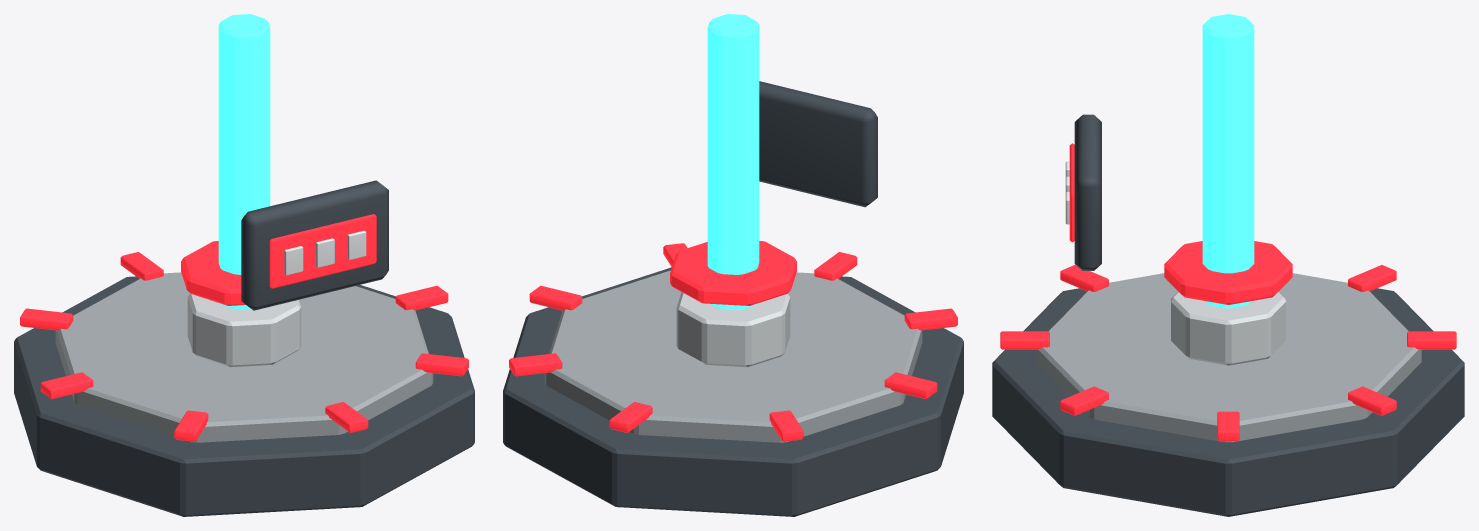
Rendered from Objective_Station_Red.fbx.
3 views of the same model, side by side, from view 1: azimuth 30°, elevation 25°; view 2: azimuth 150°, elevation 25°; view 3: azimuth 270°, elevation 25° (orthographic).
Parts seen in each view (by area): view 1: Octagonal base.001, Raised deck.001, Energy column.001, Progress panel.001, Column socket.001, Progress screen.001, Team collar.001, Team rim marker.015, Team rim marker.011, Team rim marker.012, Team rim marker.008, Team rim marker.014 (+5 smaller); view 2: Octagonal base.001, Raised deck.001, Energy column.001, Progress panel.001, Column socket.001, Team collar.001, Team rim marker.009, Team rim marker.013, Team rim marker.012, Team rim marker.008, Team rim marker.010, Team rim marker.014 (+1 smaller); view 3: Octagonal base.001, Raised deck.001, Energy column.001, Column socket.001, Team collar.001, Progress panel.001, Team rim marker.010, Team rim marker.014, Team rim marker.009, Team rim marker.015, Team rim marker.011, Team rim marker.013 (+2 smaller).
Part boxes in pixels (bbox=[...]): Octagonal base.001: bbox=[14, 276, 474, 516]; Raised deck.001: bbox=[55, 272, 433, 442]; Energy column.001: bbox=[218, 14, 270, 309]; Progress panel.001: bbox=[241, 180, 388, 310]; Column socket.001: bbox=[187, 293, 301, 367]; Progress screen.001: bbox=[269, 214, 376, 288]; Team collar.001: bbox=[181, 241, 245, 305]; Team rim marker.015: bbox=[415, 353, 468, 376]; Team rim marker.011: bbox=[20, 308, 73, 330]; Team rim marker.012: bbox=[40, 372, 93, 399]; Team rim marker.008: bbox=[395, 285, 448, 310]; Team rim marker.014: bbox=[325, 402, 368, 432]; Octagonal base.001: bbox=[503, 267, 963, 516]; Raised deck.001: bbox=[544, 270, 922, 442]; Energy column.001: bbox=[707, 14, 759, 309]; Progress panel.001: bbox=[759, 81, 877, 207]; Column socket.001: bbox=[676, 292, 790, 367]; Team collar.001: bbox=[670, 241, 796, 305]; Team rim marker.009: bbox=[509, 353, 562, 376]; Team rim marker.013: bbox=[904, 308, 957, 330]; Team rim marker.012: bbox=[884, 372, 937, 399]; Team rim marker.008: bbox=[529, 285, 582, 310]; Team rim marker.010: bbox=[609, 402, 652, 432]; Team rim marker.014: bbox=[814, 252, 857, 280]; Octagonal base.001: bbox=[992, 288, 1464, 516]; Raised deck.001: bbox=[1035, 273, 1421, 442]; Energy column.001: bbox=[1202, 14, 1254, 308]; Column socket.001: bbox=[1171, 292, 1285, 365]; Team collar.001: bbox=[1164, 241, 1292, 304]; Progress panel.001: bbox=[1074, 114, 1101, 270]; Team rim marker.010: bbox=[1407, 331, 1456, 349]; Team rim marker.014: bbox=[1000, 331, 1049, 349]; Team rim marker.009: bbox=[1348, 386, 1396, 415]; Team rim marker.015: bbox=[1060, 386, 1108, 415]; Team rim marker.011: bbox=[1348, 265, 1396, 291]; Team rim marker.013: bbox=[1060, 265, 1108, 291].
Bounding box in the file's own units: 209 × 193 × 209.
